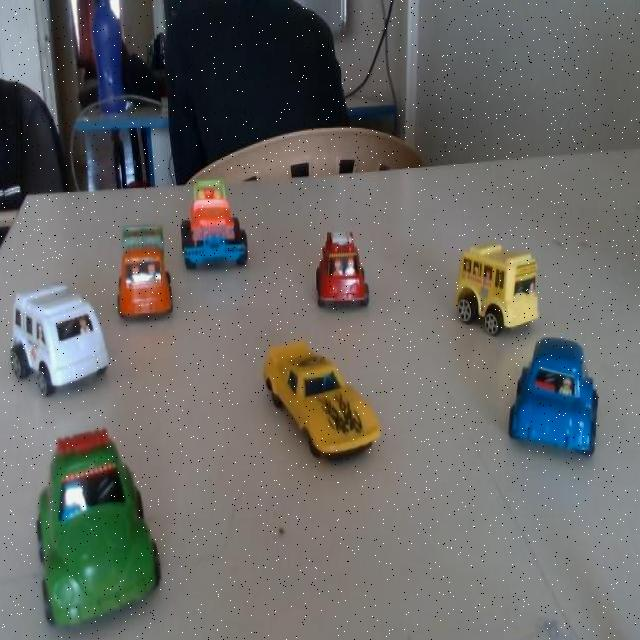car: (12, 434, 156, 606), (248, 337, 386, 465), (0, 266, 115, 412), (505, 333, 607, 466), (446, 243, 531, 342), (183, 171, 260, 269), (301, 220, 373, 324), (110, 212, 174, 325)
